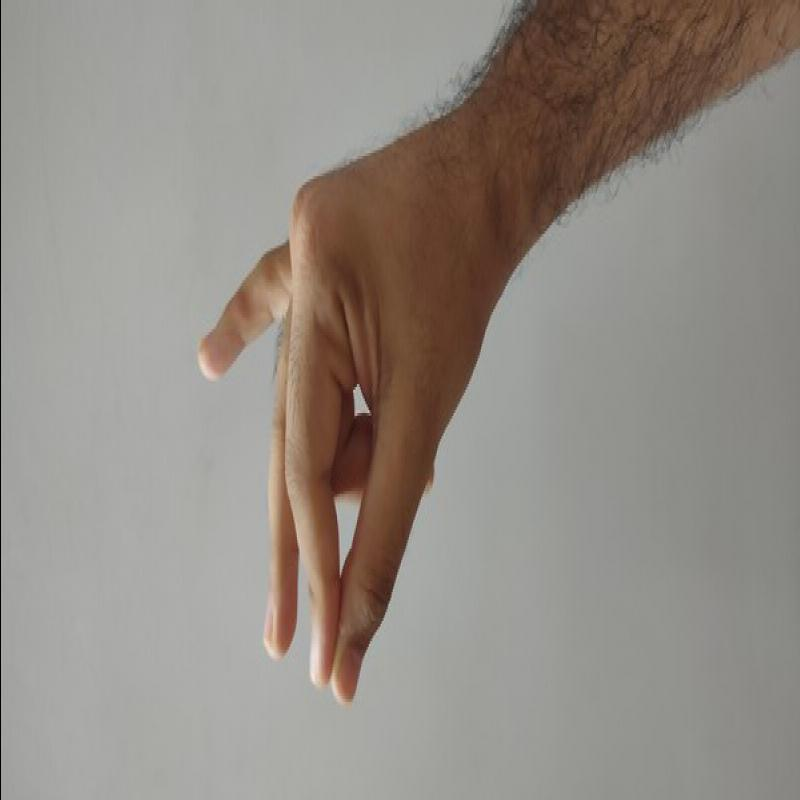Katakam: (154, 100, 512, 715)
